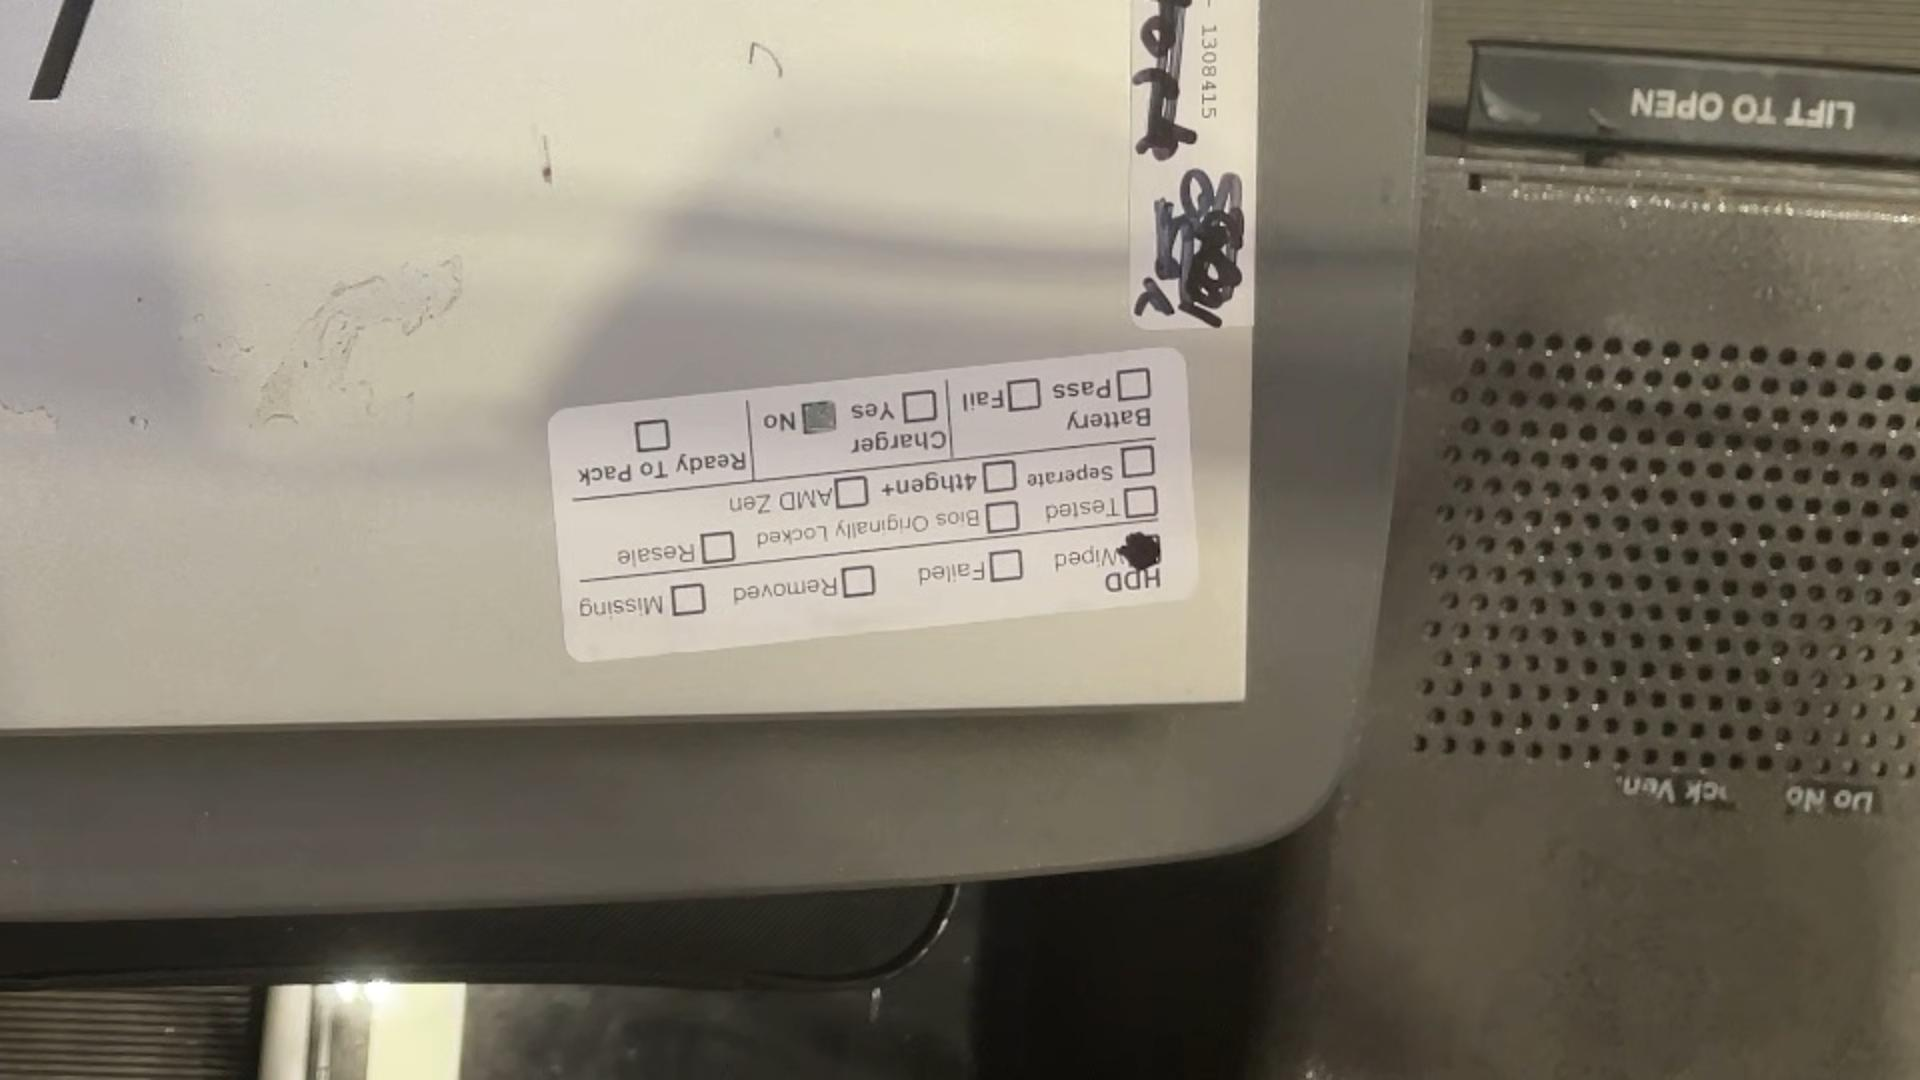scratches: (534, 123, 558, 191), (748, 37, 785, 80)
